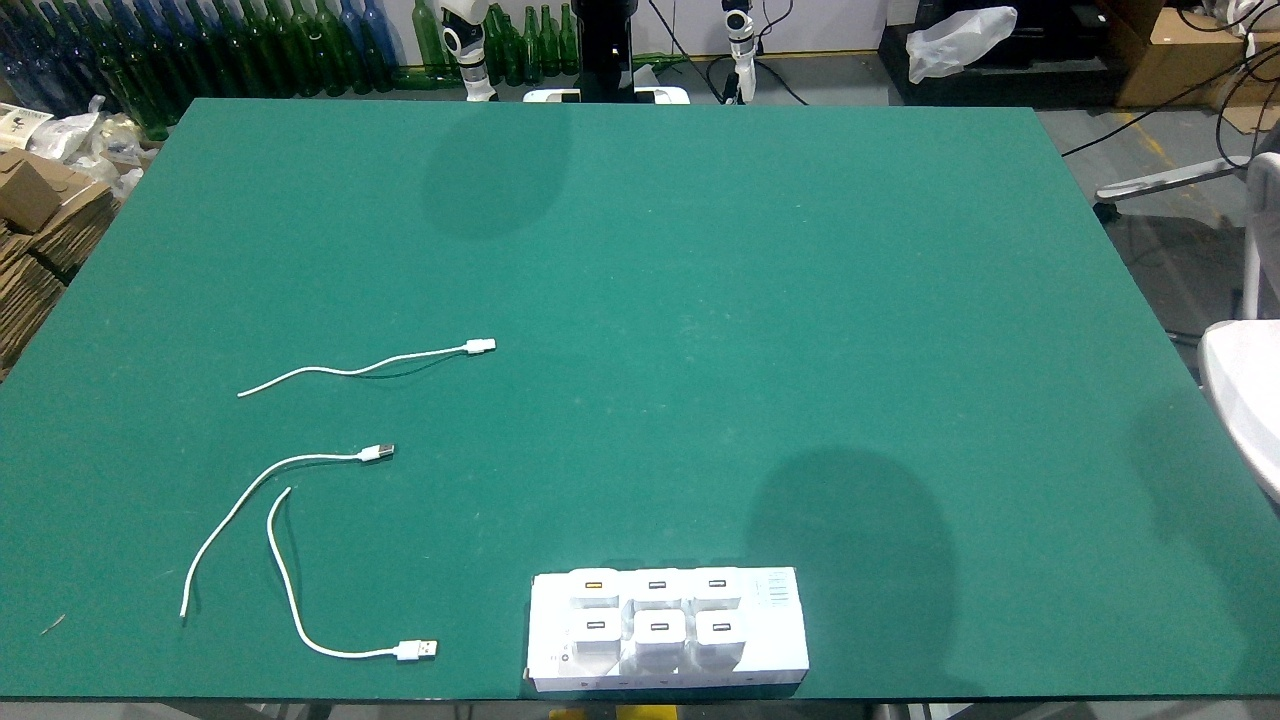usb_a_plug: (350, 441, 396, 465), (387, 639, 437, 661), (452, 336, 498, 356)
